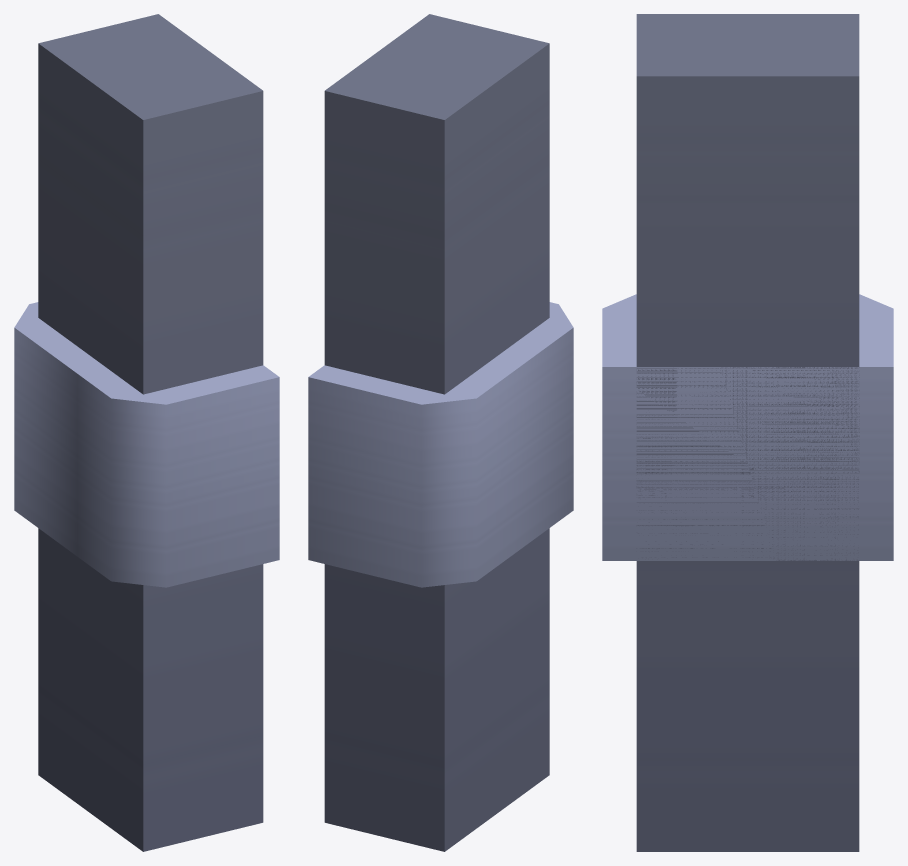
Rendered from chimney.fbx.
3 views of the same model, side by side, from view 1: azimuth 30°, elevation 25°; view 2: azimuth 150°, elevation 25°; view 3: azimuth 270°, elevation 25° (orthographic). The views are drawn at different scales.
Parts seen in each view (by area): view 1: chimney; view 2: chimney; view 3: chimney.
Boxes of the visible parts, box(x1,y1,x2,y2) form: chimney: box(14, 14, 279, 851); chimney: box(308, 14, 573, 851); chimney: box(602, 14, 893, 851).
Bounding box in the file's own units: 21.19 × 100 × 34.
1 material, 1 textured.
